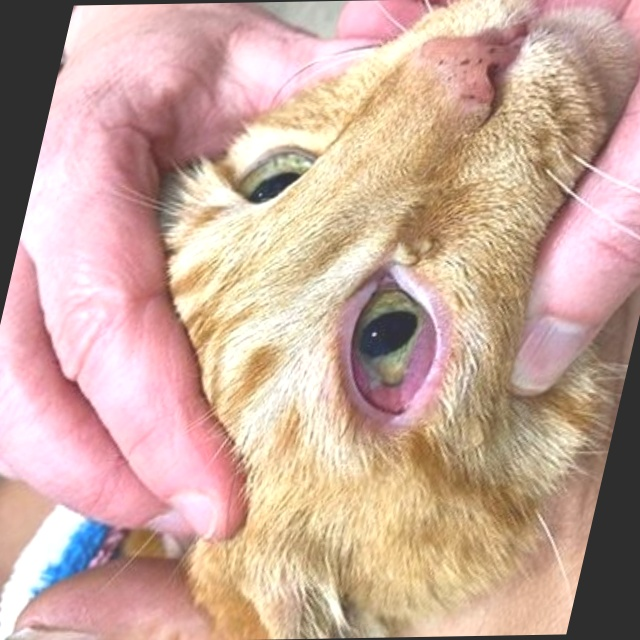eye_infection: (313, 271, 454, 427)
